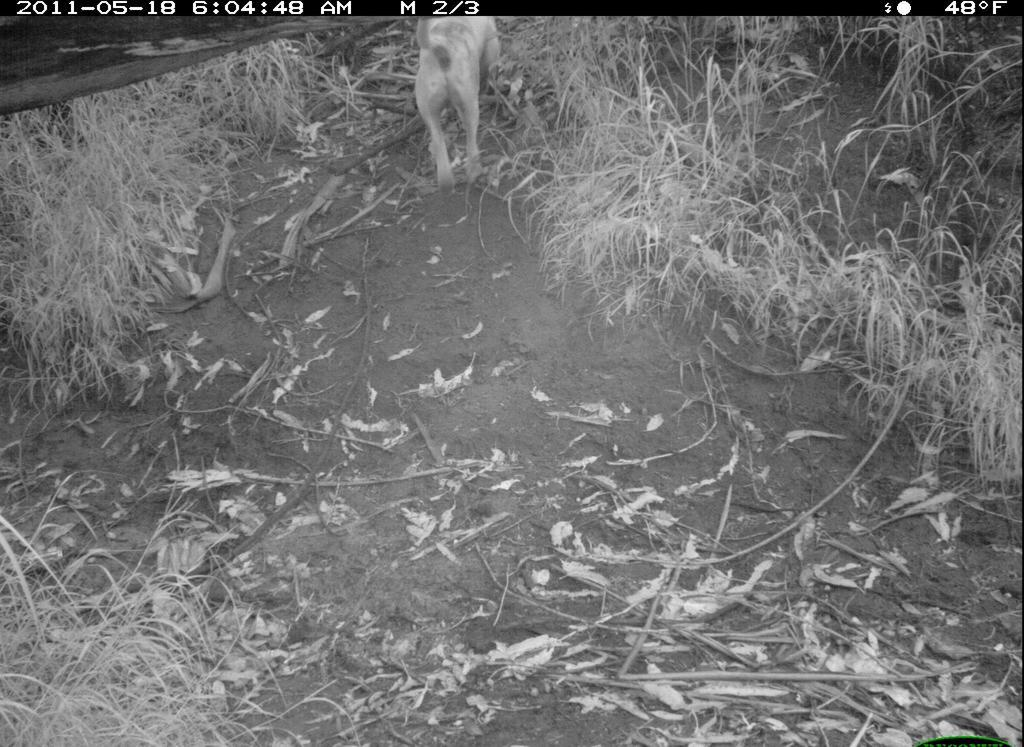dog: (404, 16, 520, 204)
